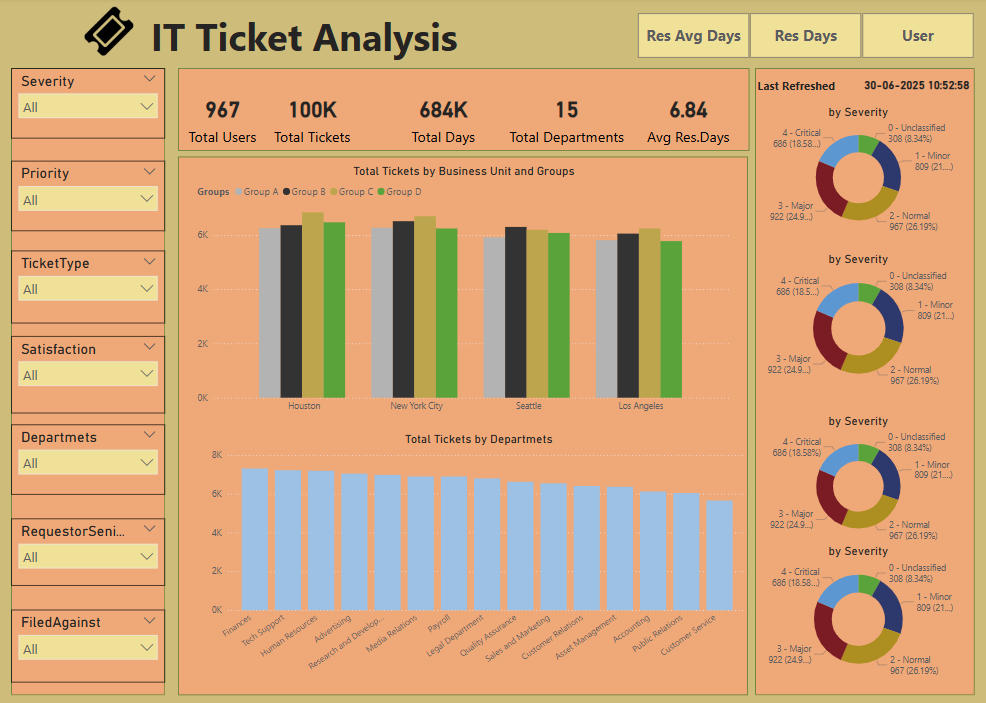

What the dashboard file says about the page in this screenshot:
{"tool":"powerbi","page":{"name":"Page 1","canvas":[1400,1000],"ordinal":0},"visuals":[{"type":"image","box":[118.6,4,78.4,88.4],"z":0},{"type":"slicer","fields":{"Values":["IT-Help-Desk.Severity"]},"box":[20.1,100.5,217.1,98.7],"z":0,"group":"g3"},{"type":"card","fields":{"Values":["aMeasures.Total Users"]},"box":[235.2,126.6,165.6,87.8],"z":0,"group":"g4"},{"type":"donutChart","title":"by Severity","fields":{"Series":["IT-Help-Desk.Severity"],"Y":["aMeasures.Selection logic"]},"box":[1059.3,153.3,311.5,185.6],"z":0,"group":"g1"},{"type":"clusteredColumnChart","fields":{"Category":["IT-Help-Desk.Business Unit"],"Y":["aMeasures.Total Tickets"],"Series":["IT-Help-Desk.Groups"]},"box":[277.4,235.2,762.4,360],"z":0,"group":"g2"},{"type":"shape","box":[255.3,100.5,806,116.6],"z":500},{"type":"textbox","box":[197,14.1,472.3,86.4],"z":1000},{"type":"card","fields":{"Values":["aMeasures.Total Tickets"]},"box":[361.9,126.6,165.6,87.8],"z":1000,"group":"g4"},{"type":"slicer","fields":{"Values":["IT-Help-Desk.Priority"]},"box":[20.1,230.7,217.1,98.7],"z":1000,"group":"g3"},{"type":"donutChart","title":"by Severity","fields":{"Series":["IT-Help-Desk.Severity"],"Y":["aMeasures.Selection logic"]},"box":[1059.3,360.7,311.5,196.5],"z":1000,"group":"g1"},{"type":"clusteredColumnChart","fields":{"Y":["aMeasures.Total Tickets"],"Category":["IT-Help-Desk.Departmets"]},"box":[296.9,613.2,764.4,352],"z":1000,"group":"g2"},{"type":"slicer","fields":{"Values":["Metric.Measure"]},"box":[878.4,16.1,522.6,76.4],"z":2000},{"type":"card","fields":{"Values":["aMeasures.Total Days"]},"box":[547.7,126.6,165.6,87.8],"z":2000,"group":"g4"},{"type":"slicer","fields":{"Values":["IT-Help-Desk.TicketType"]},"box":[20.1,356.9,217.1,102.7],"z":2000,"group":"g3"},{"type":"donutChart","title":"by Severity","fields":{"Series":["IT-Help-Desk.Severity"],"Y":["aMeasures.Selection logic"]},"box":[1059.3,588.1,311.5,183.8],"z":2000,"group":"g1"},{"type":"shape","box":[1069.3,100.5,309.5,884.4],"z":3000},{"type":"card","fields":{"Values":["aMeasures.Total Departments"]},"box":[713.3,126.6,180,87.8],"z":3000,"group":"g4"},{"type":"slicer","fields":{"Values":["IT-Help-Desk.Satisfaction"]},"box":[20.1,477.8,217.1,108.8],"z":3000,"group":"g3"},{"type":"donutChart","title":"by Severity","fields":{"Series":["IT-Help-Desk.Severity"],"Y":["aMeasures.Selection logic"]},"box":[1059.3,771.9,311.5,192.9],"z":3000,"group":"g1"},{"type":"shape","box":[20.1,100.5,217.1,884.4],"z":4000},{"type":"card","fields":{"Values":["Min(Last Refresh.LastRefresh)"]},"box":[1216.1,100.5,162.8,49.1],"z":4000,"group":"g1"},{"type":"card","fields":{"Values":["aMeasures.Avg Res.Days"]},"box":[893.3,126.6,165.6,87.8],"z":4000,"group":"g4"},{"type":"slicer","fields":{"Values":["IT-Help-Desk.Departmets"]},"box":[20.1,602.7,217.1,98.7],"z":4000,"group":"g3"},{"type":"shape","box":[255.3,225.1,804,759.8],"z":4500},{"type":"group","id":"g1","title":"Donut Group","box":[1039.2,100.5,339.7,864.3],"z":5000},{"type":"textbox","box":[1039.2,107.8,176.9,36.4],"z":5000,"group":"g1"},{"type":"slicer","fields":{"Values":["IT-Help-Desk.RequestorSeniority"]},"box":[20.1,735.7,217.1,94.7],"z":5000,"group":"g3"},{"type":"group","id":"g2","title":"Chart Group","box":[277.4,235.2,783.9,731.6],"z":6000},{"type":"slicer","fields":{"Values":["IT-Help-Desk.FiledAgainst"]},"box":[20.1,864,217.1,102.7],"z":6000,"group":"g3"},{"type":"group","id":"g3","title":"Slicer Group","box":[20.1,100.5,217.1,866.3],"z":7000},{"type":"group","id":"g4","title":"Card Group","box":[235.2,126.6,824.1,86.4],"z":8000}]}

Visuals, with their boxes in screenshot pixels (x1, y1, x2, y2), scaled from the page's 1400x1000 canvas onto the 986x703 screenshot:
image: (84,3,139,65)
slicer - IT-Help-Desk.Severity: (14,71,167,140)
card - aMeasures.Total Users: (166,89,282,151)
"by Severity" donutChart: (746,108,965,238)
clusteredColumnChart - IT-Help-Desk.Business Unit x aMeasures.Total Tickets: (195,165,732,418)
shape: (180,71,747,153)
textbox: (139,10,471,71)
card - aMeasures.Total Tickets: (255,89,372,151)
slicer - IT-Help-Desk.Priority: (14,162,167,232)
"by Severity" donutChart: (746,254,965,392)
clusteredColumnChart - aMeasures.Total Tickets x IT-Help-Desk.Departmets: (209,431,747,679)
slicer - Metric.Measure: (619,11,985,65)
card - aMeasures.Total Days: (386,89,502,151)
slicer - IT-Help-Desk.TicketType: (14,251,167,323)
"by Severity" donutChart: (746,413,965,543)
shape: (753,71,971,692)
card - aMeasures.Total Departments: (502,89,629,151)
slicer - IT-Help-Desk.Satisfaction: (14,336,167,412)
"by Severity" donutChart: (746,543,965,678)
shape: (14,71,167,692)
card - Min(Last Refresh.LastRefresh): (856,71,971,105)
card - aMeasures.Avg Res.Days: (629,89,746,151)
slicer - IT-Help-Desk.Departmets: (14,424,167,493)
shape: (180,158,746,692)
"Donut Group" group: (732,71,971,678)
textbox: (732,76,856,101)
slicer - IT-Help-Desk.RequestorSeniority: (14,517,167,584)
"Chart Group" group: (195,165,747,680)
slicer - IT-Help-Desk.FiledAgainst: (14,607,167,680)
"Slicer Group" group: (14,71,167,680)
"Card Group" group: (166,89,746,150)
